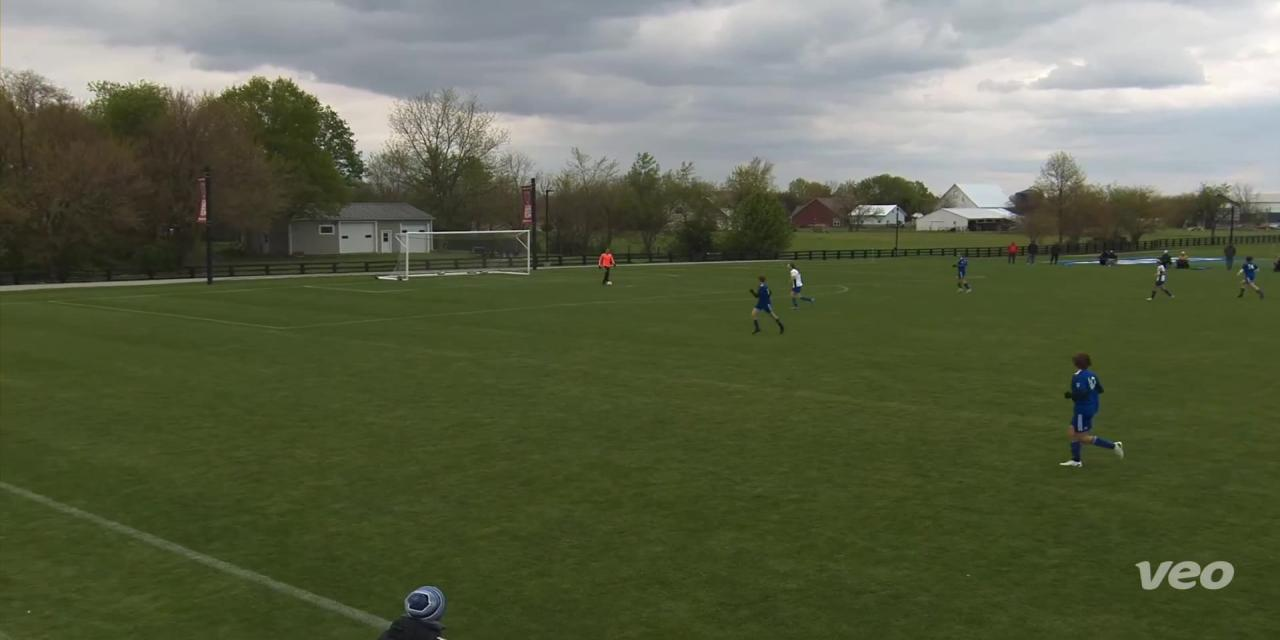goal: (375, 225, 548, 286), (603, 277, 619, 289)
